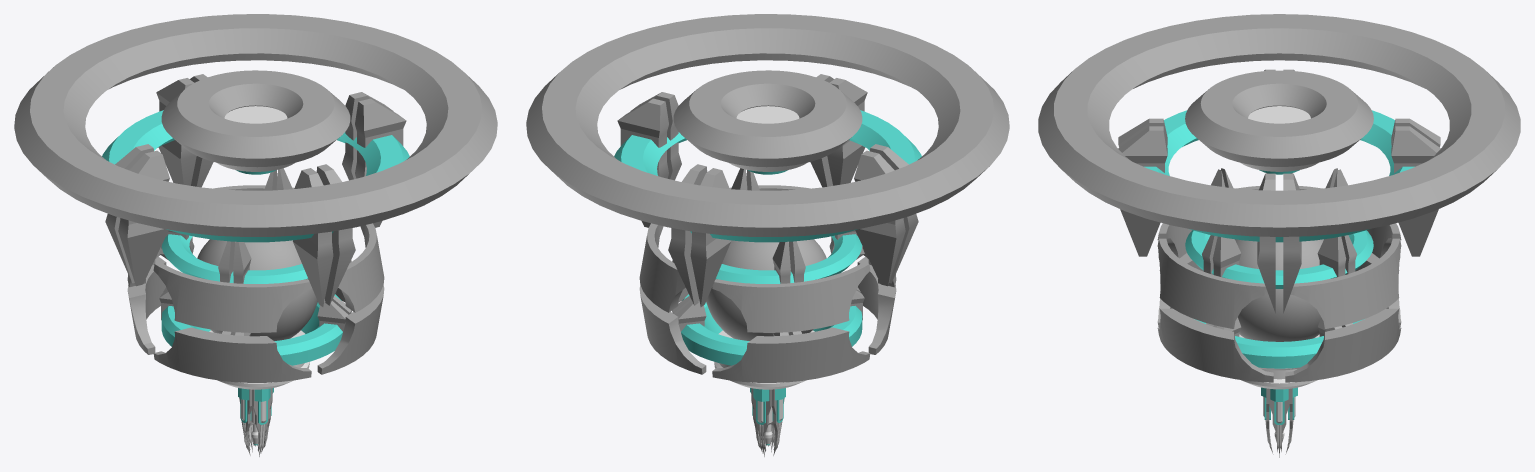
Rendered from CoreAndShit.fbx.
3 renders of one model, left to right at view 1: azimuth 30°, elevation 25°; view 2: azimuth 150°, elevation 25°; view 3: azimuth 270°, elevation 25°, orthographic.
Visible parts, largest first — view 1: CeilingRing, CenterRing, UpperBigRing, BottomRingAndNeedle, UpperSmallRing, DeezNut; view 2: CeilingRing, CenterRing, UpperBigRing, BottomRingAndNeedle, UpperSmallRing, DeezNut; view 3: CeilingRing, CenterRing, UpperBigRing, UpperSmallRing, BottomRingAndNeedle, DeezNut.
Boxes of the visible parts, x1=… form: CeilingRing: x1=14, y1=14, x2=497, y2=236; CenterRing: x1=127, y1=185, x2=384, y2=382; UpperBigRing: x1=102, y1=74, x2=409, y2=306; BottomRingAndNeedle: x1=159, y1=287, x2=351, y2=456; UpperSmallRing: x1=159, y1=168, x2=351, y2=283; DeezNut: x1=197, y1=239, x2=317, y2=340; CeilingRing: x1=526, y1=14, x2=1009, y2=236; CenterRing: x1=639, y1=185, x2=896, y2=382; UpperBigRing: x1=614, y1=74, x2=921, y2=306; BottomRingAndNeedle: x1=672, y1=287, x2=864, y2=456; UpperSmallRing: x1=672, y1=168, x2=864, y2=283; DeezNut: x1=706, y1=239, x2=826, y2=340; CeilingRing: x1=1038, y1=14, x2=1520, y2=236; CenterRing: x1=1157, y1=186, x2=1401, y2=382; UpperBigRing: x1=1118, y1=69, x2=1440, y2=313; UpperSmallRing: x1=1185, y1=168, x2=1373, y2=288; BottomRingAndNeedle: x1=1194, y1=317, x2=1364, y2=457; DeezNut: x1=1235, y1=239, x2=1323, y2=341.
Size of the model in its own units: 3349 by 2690 by 3343.
